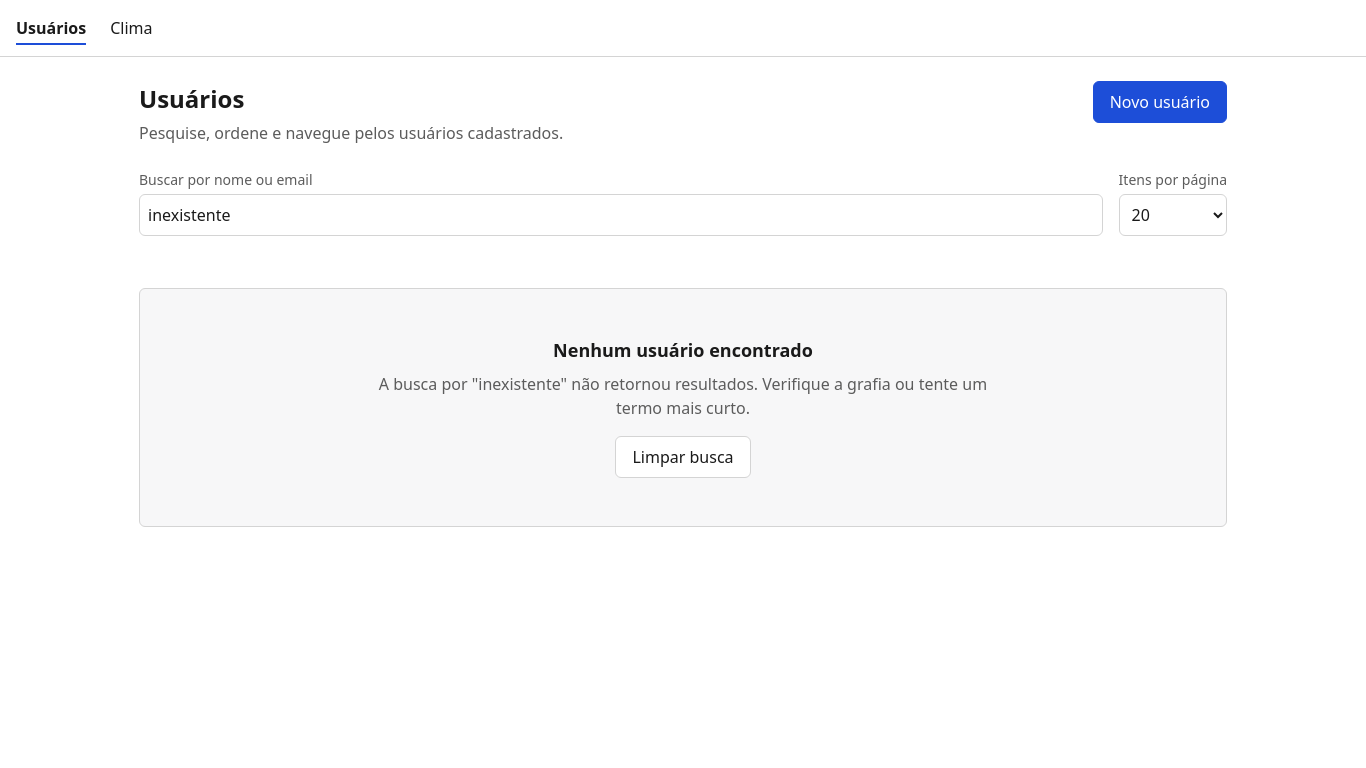
it: estado vazio › busca sem resultado oferece limpar a busca
What coordinates should you click on to do the following:
click the button "Limpar busca"
I would click on:
 (683, 457)
Its box is [615,436,750,478].
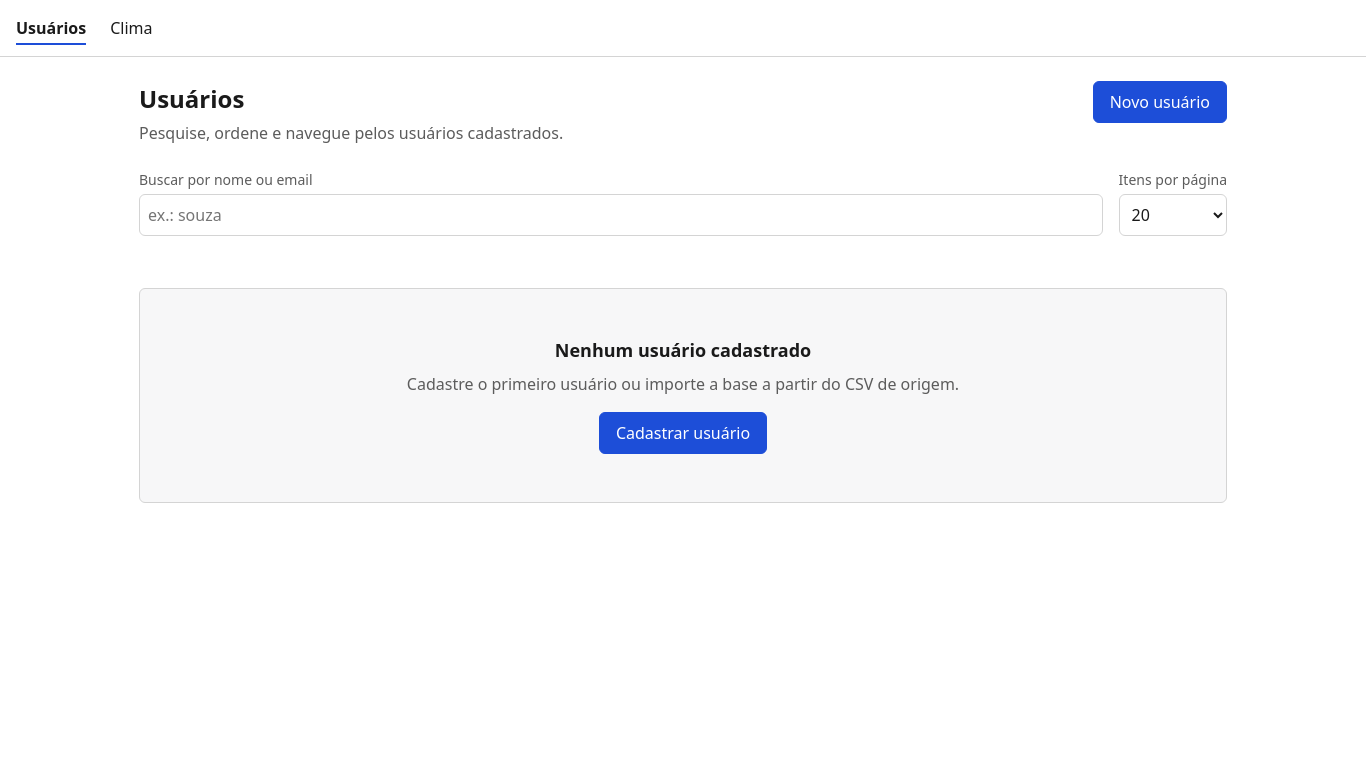
Expected: the search field labelled "Buscar por nome ou email" is empty, [139,194,1103,236]
